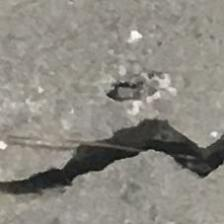Crack: (0, 115, 224, 200)
